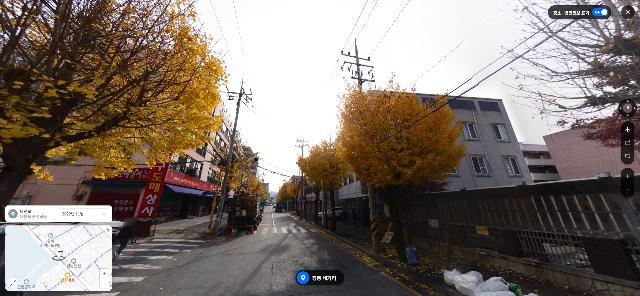ginkgo: (0, 0, 230, 221), (333, 72, 468, 263), (294, 139, 351, 233), (227, 148, 264, 200), (281, 175, 307, 218)
other: (499, 0, 640, 159)
